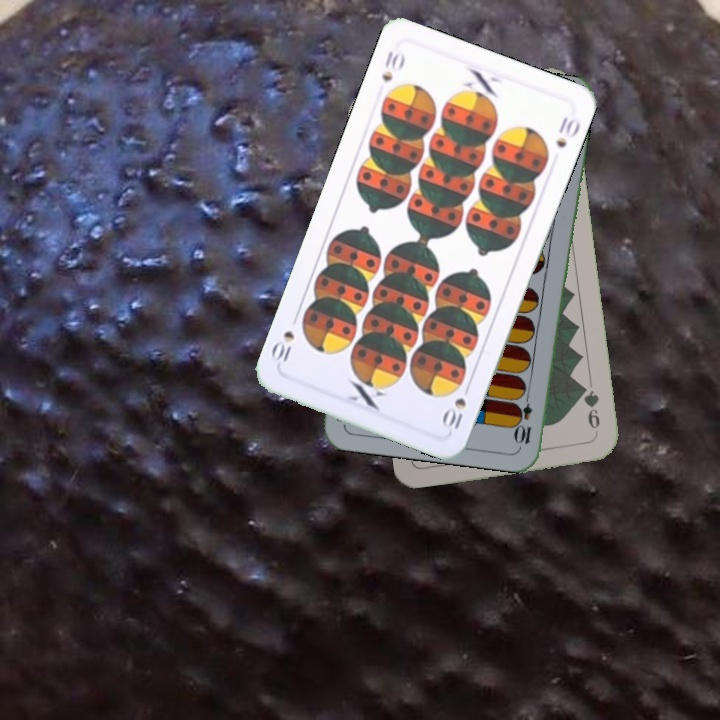E10: (514, 387, 535, 446)
G9: (577, 381, 603, 439)
S10: (439, 379, 474, 435), (377, 46, 408, 84)
